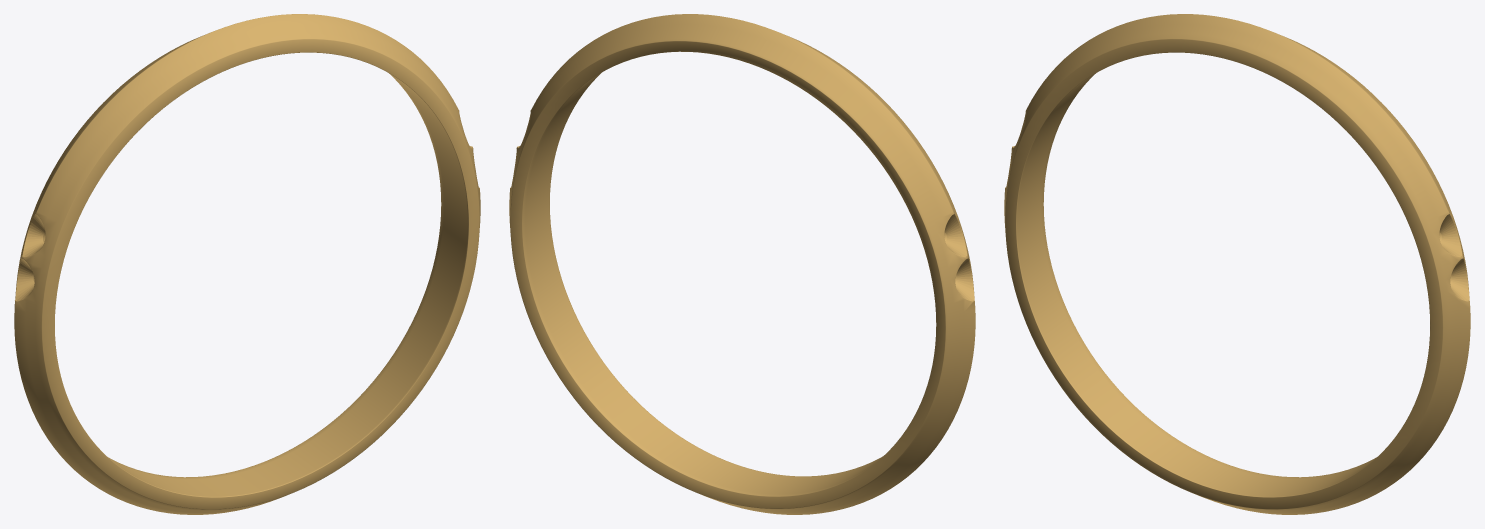
Rendered from knife-edge-channel-multi.glb.
3 renders of one model, left to right at view 1: azimuth 30°, elevation 25°; view 2: azimuth 150°, elevation 25°; view 3: azimuth 330°, elevation 25°, orthographic.
Parts seen in each view (by area): view 1: Band; view 2: Band; view 3: Band.
Boxes of the visible parts, x1,y1,x2,y2 form: Band: (14, 14, 480, 514); Band: (509, 14, 975, 514); Band: (1004, 14, 1470, 514).
Bounding box in the file's own units: 19.59 × 19.59 × 2.1.
